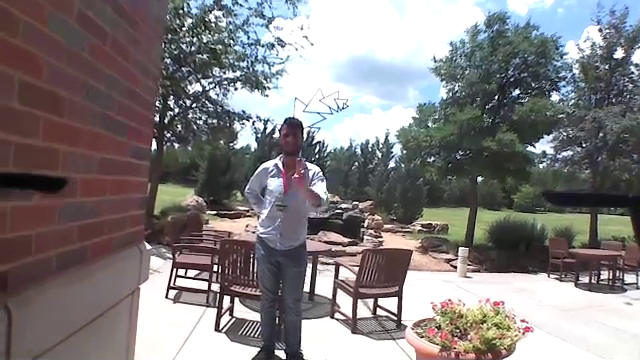peace: (288, 154, 315, 192)
